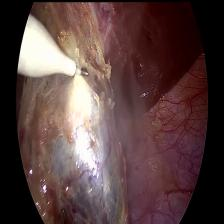Hook: (16, 5, 88, 83)
